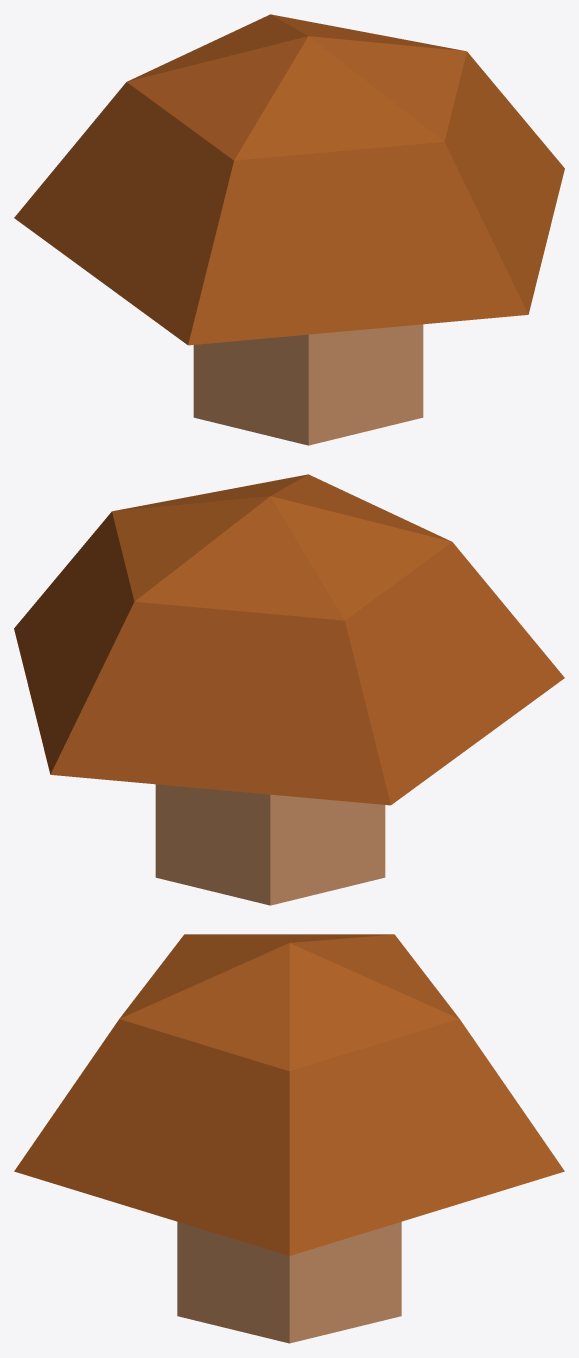
File: Mushroom01.fbx
The picture shows the model from 3 angles, top to bottom: view 1: azimuth 30°, elevation 25°; view 2: azimuth 150°, elevation 25°; view 3: azimuth 270°, elevation 25°; orthographic projection. The views are drawn at different scales.
Parts seen in each view (by area): view 1: UltimateMushroom; view 2: UltimateMushroom; view 3: UltimateMushroom.
Part boxes in pixels (<box>): UltimateMushroom: <box>14,14,564,445</box>; UltimateMushroom: <box>14,474,564,905</box>; UltimateMushroom: <box>14,934,564,1343</box>.
Size of the model in its own units: 69.73 by 50.77 by 73.32.
Materials: 1 (1 with a texture image).
